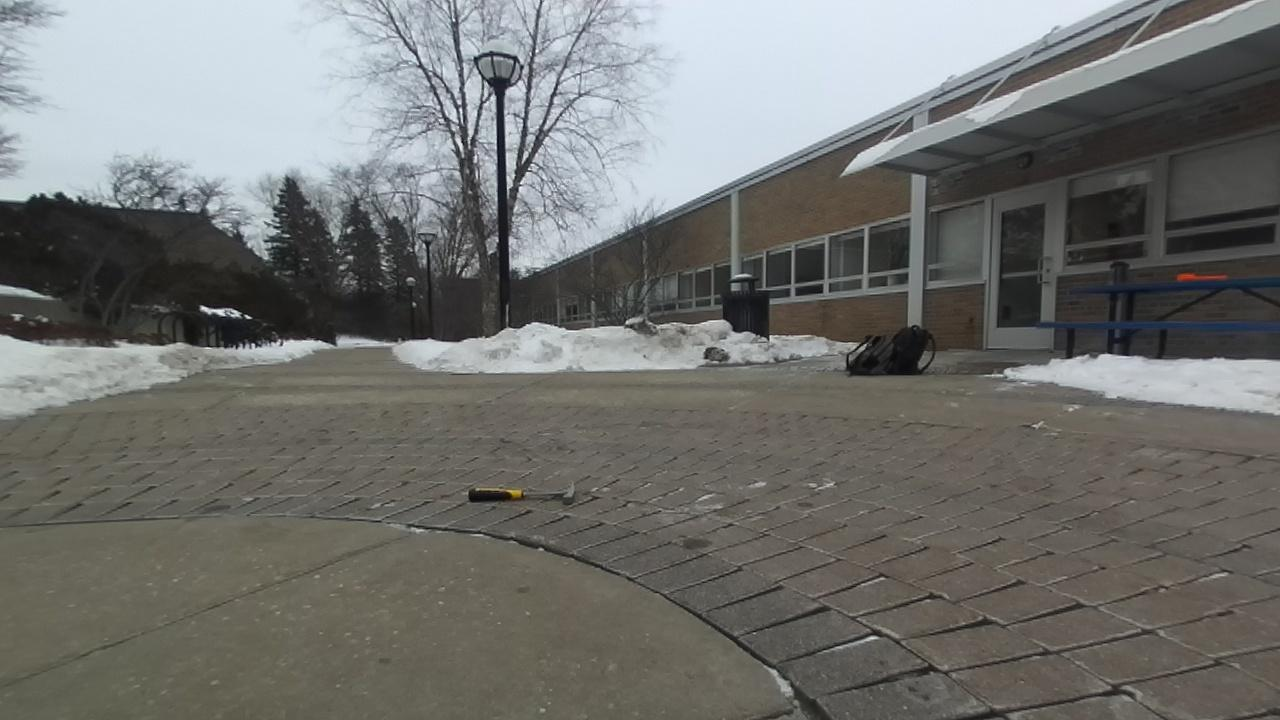mallet: (1177, 274, 1228, 281)
pick: (467, 483, 575, 504)
